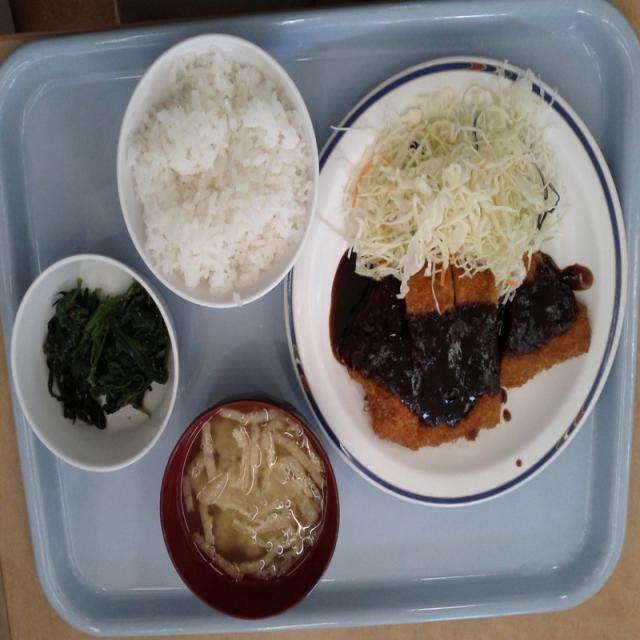Rice: (111, 42, 328, 308)
